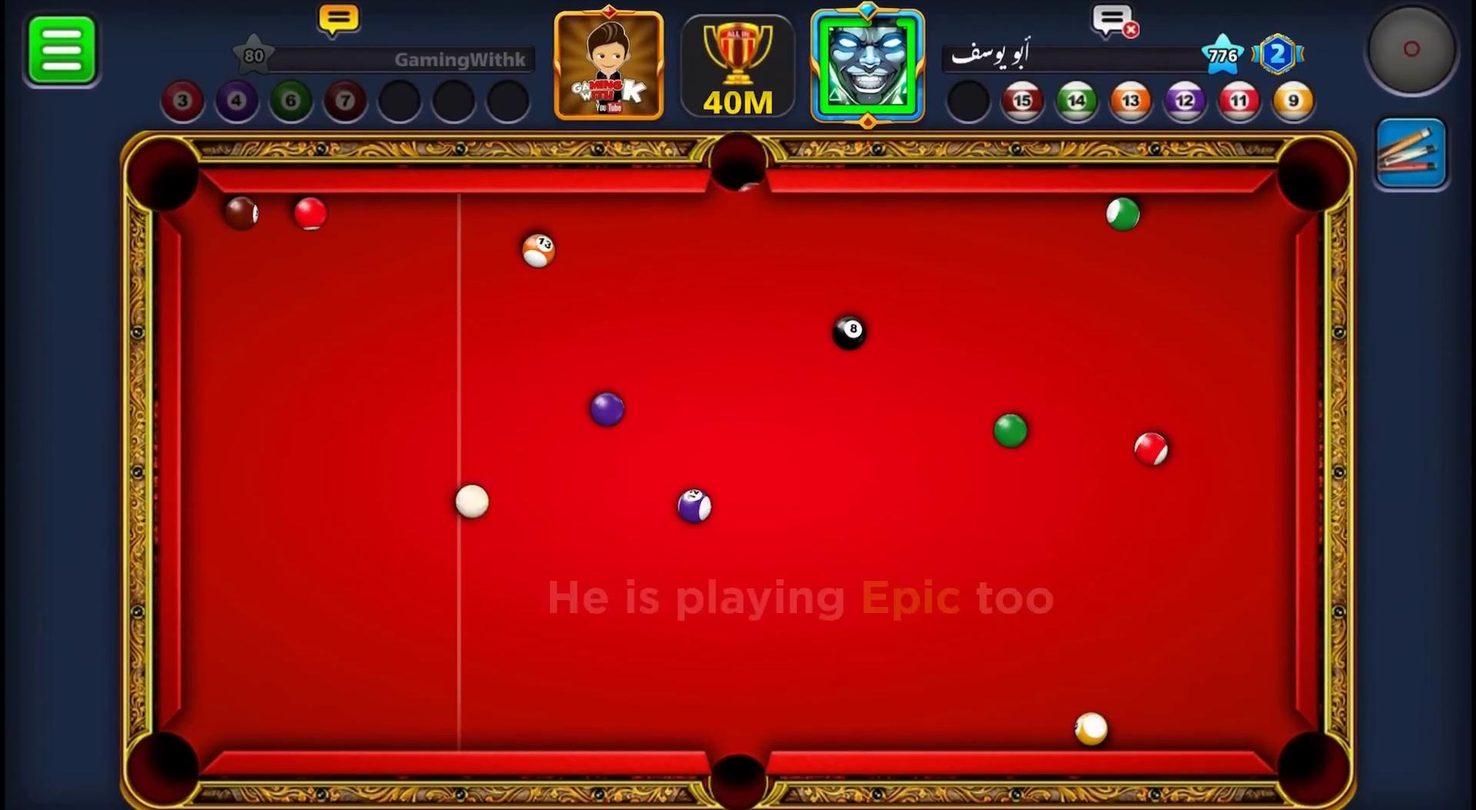Ball: (1068, 703, 1110, 752), (1132, 424, 1170, 469), (292, 197, 331, 235), (221, 196, 262, 231), (590, 391, 625, 427), (833, 314, 867, 350), (678, 489, 712, 524), (522, 232, 555, 268), (1107, 197, 1141, 231), (993, 413, 1027, 447)
Hole: (1271, 723, 1353, 805), (126, 137, 205, 218), (1274, 135, 1351, 213), (126, 730, 203, 805), (708, 132, 768, 192), (707, 754, 770, 810)
Play_Area: (180, 195, 1293, 749)
Spin: (1362, 4, 1462, 102)
White: (449, 480, 491, 524)
